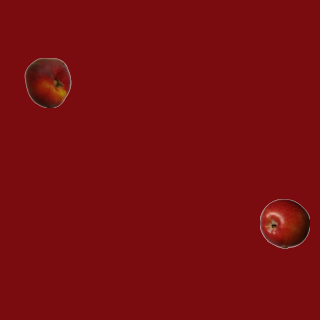Apple Braeburn: (259, 198, 309, 248)
Nectarine Flat: (22, 57, 72, 107)
